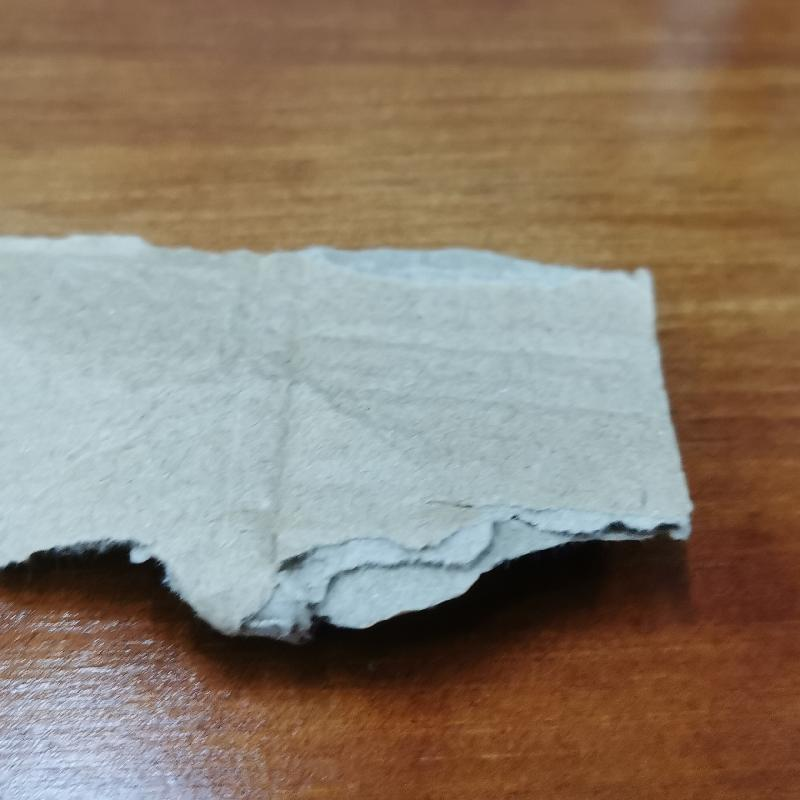boxes: (4, 219, 706, 658)
